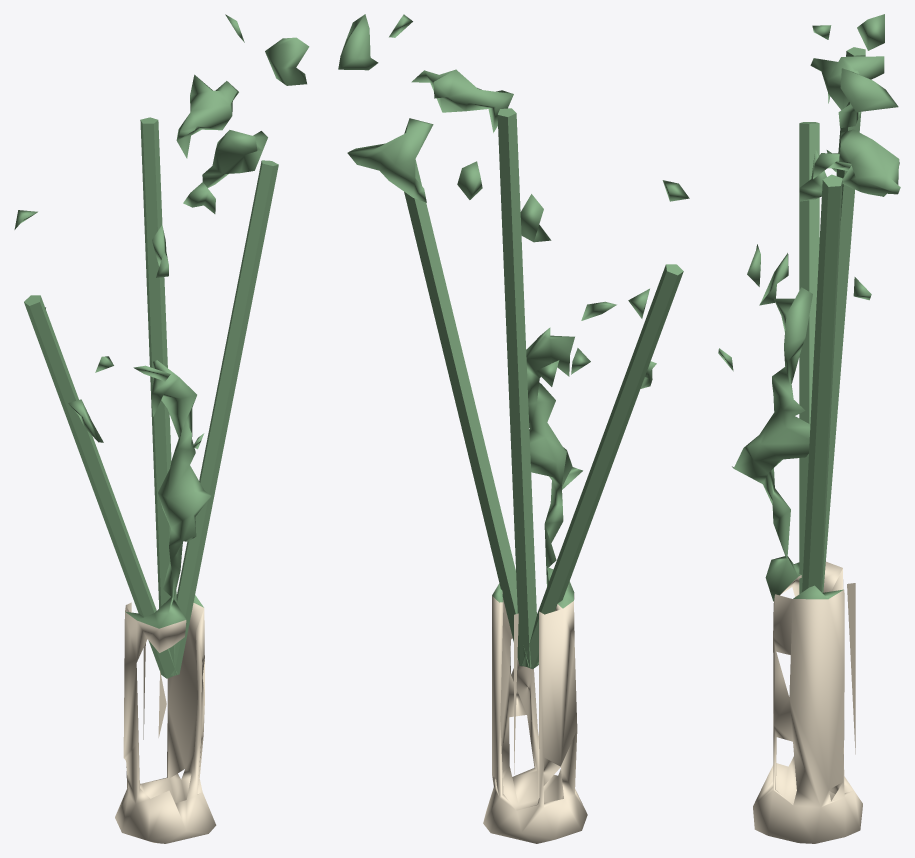
The picture shows the model from 3 angles, left to right: view 1: azimuth 30°, elevation 25°; view 2: azimuth 150°, elevation 25°; view 3: azimuth 270°, elevation 25°; orthographic projection. The views are drawn at different scales.
Visible parts, largest first — view 1: 잎 가지 꽃병, Reinforced branch.001, Reinforced branch.002, Reinforced branch; view 2: 잎 가지 꽃병, Reinforced branch.002, Reinforced branch.001, Reinforced branch; view 3: 잎 가지 꽃병, Reinforced branch.001, Reinforced branch, Reinforced branch.002.
Boxes of the visible parts, x1,y1,x2,y2 form: 잎 가지 꽃병: (14,14,309,843); Reinforced branch.001: (171,160,278,675); Reinforced branch.002: (140,117,176,675); Reinforced branch: (24,295,177,678); 잎 가지 꽃병: (338,14,689,843); Reinforced branch.002: (497,108,538,667); Reinforced branch.001: (404,159,528,666); Reinforced branch: (521,264,683,669); 잎 가지 꽃병: (718,14,900,843); Reinforced branch.001: (802,174,842,592); Reinforced branch: (799,122,819,593); Reinforced branch.002: (822,47,865,592).
Size of the model in its own units: 0.3377 by 0.7999 by 0.1532.
1 material, 1 textured.
